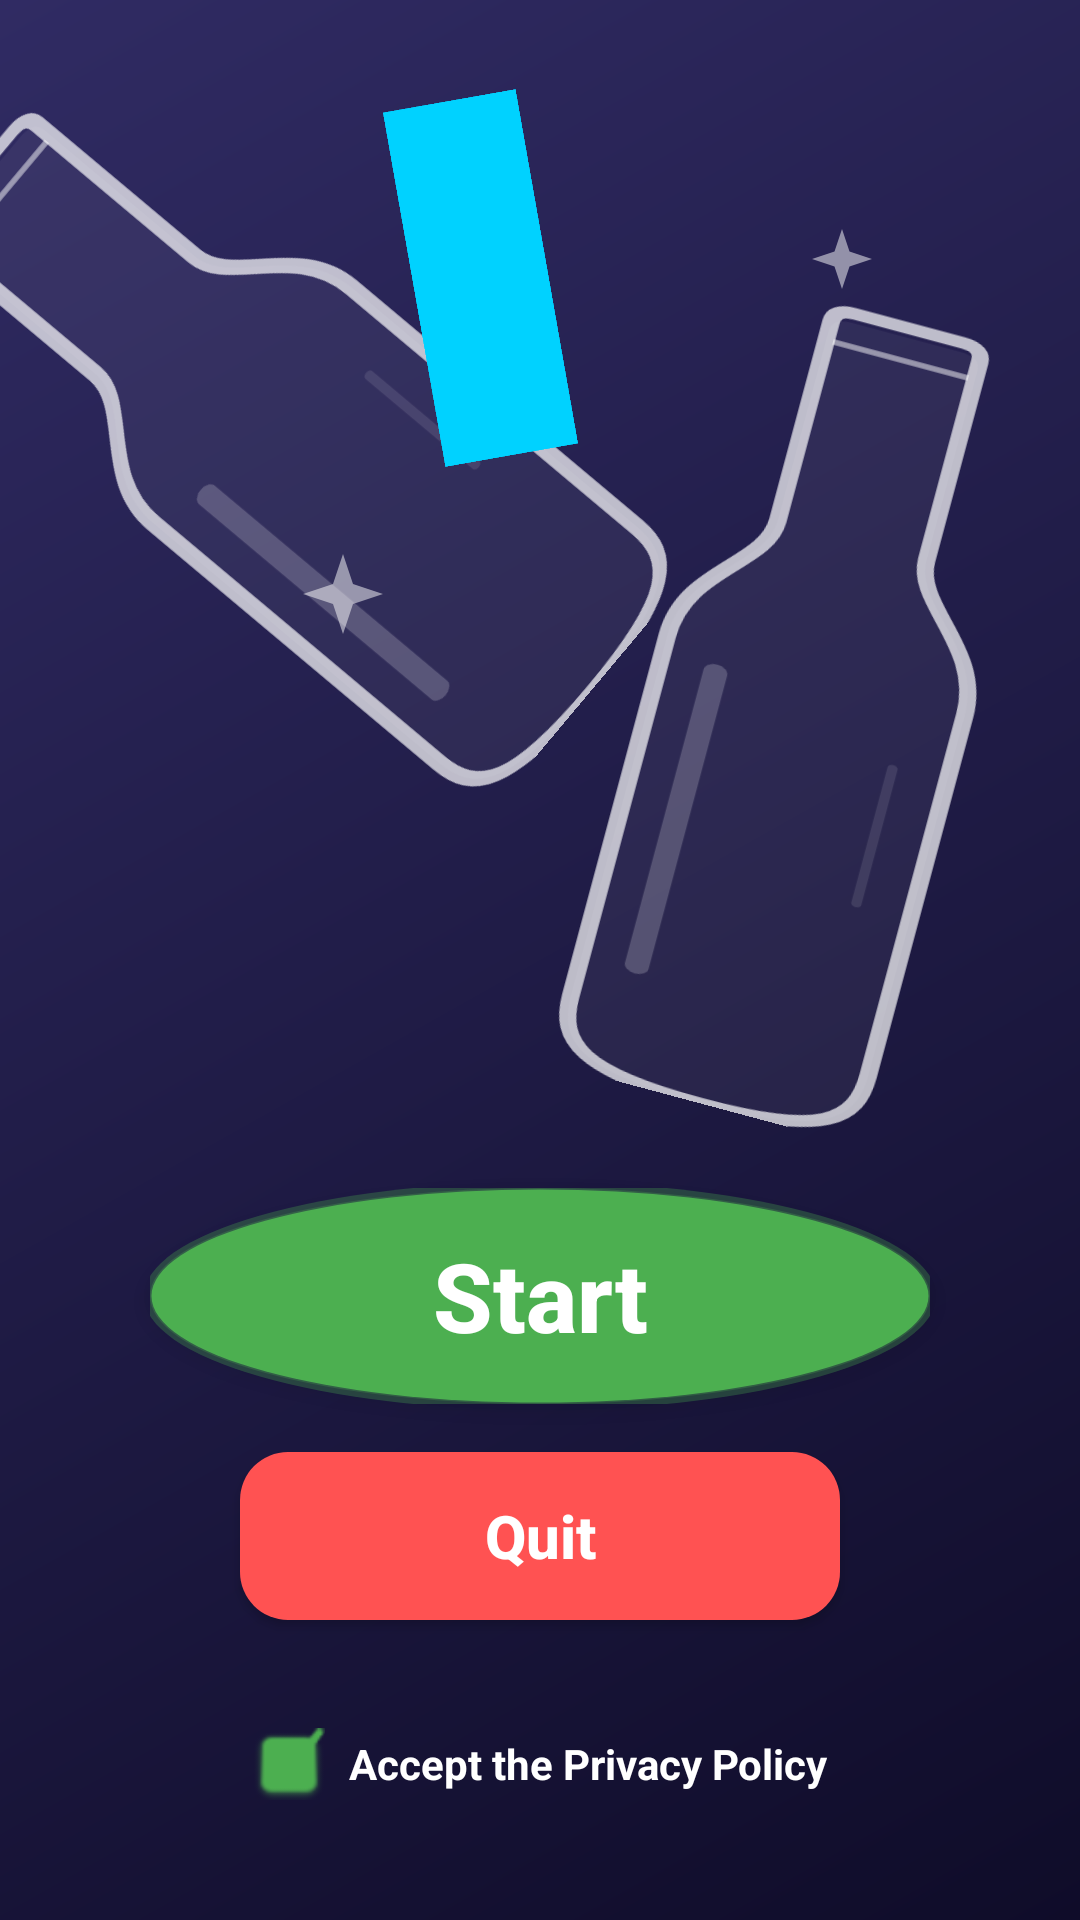

Icon click points for this 1080px x 1920px phone screenshot, format [x,y]:
sparkle: [842,259], [343,598]
